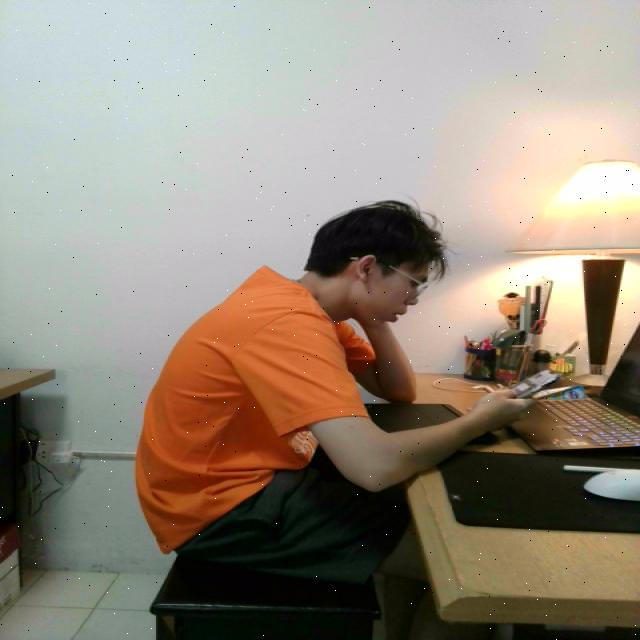Bad: (126, 192, 470, 580)
